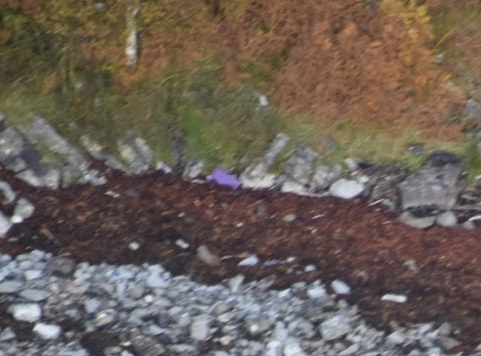white_in_green: (195, 153, 256, 203)
